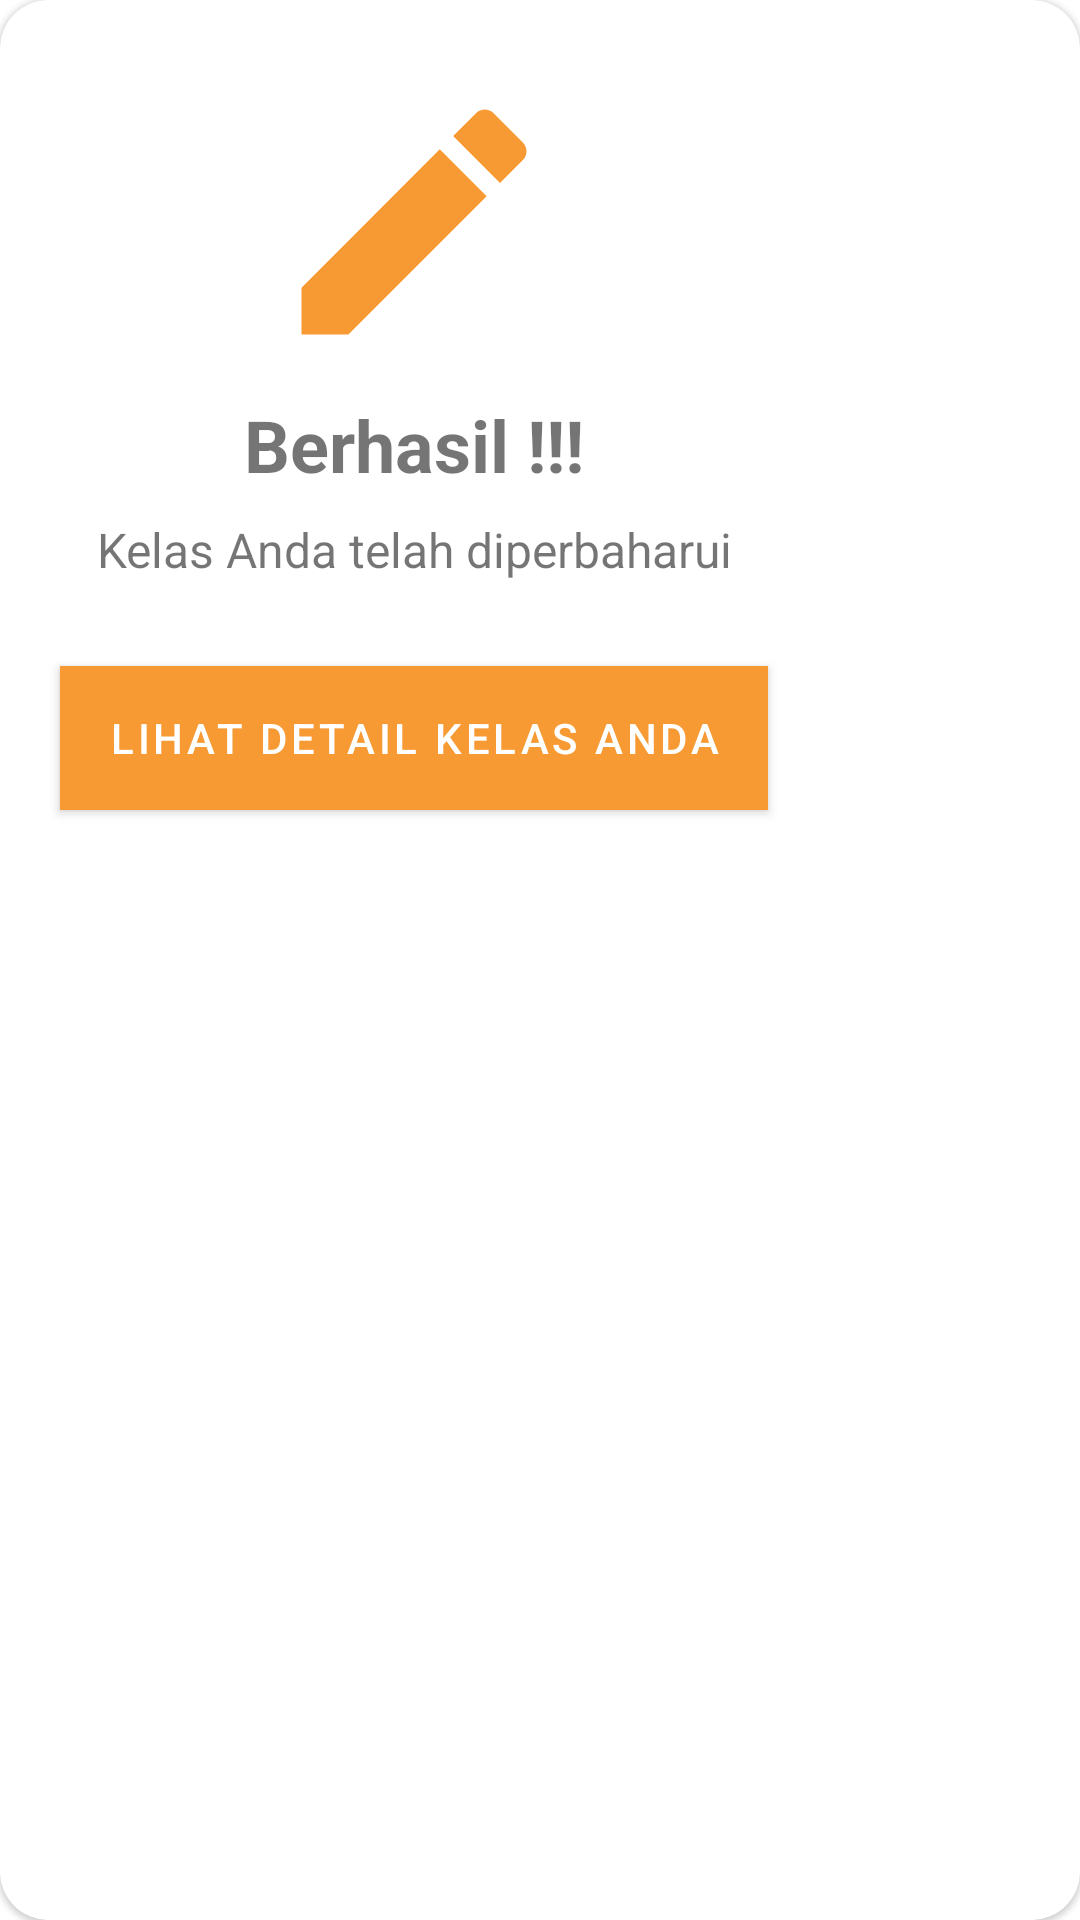

Screen size 1080px x 1920px. Icon name, then its box in pixels as (x1, y1, x2, y2):
edit: (301, 109, 527, 335)
